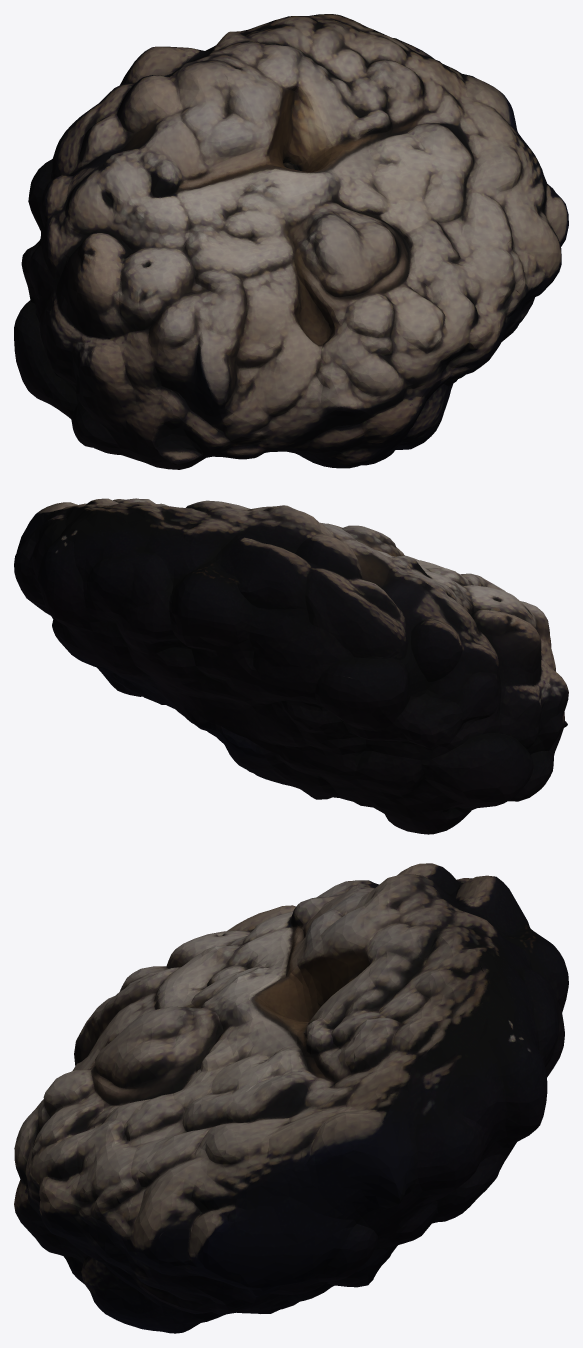
The model's file is Asteroid 3.glb.
3 renders of one model, top to bottom at view 1: azimuth 30°, elevation 25°; view 2: azimuth 150°, elevation 25°; view 3: azimuth 270°, elevation 25°, orthographic. The views are drawn at different scales.
Visible parts, largest first — view 1: world; view 2: world; view 3: world.
Boxes of the visible parts, x1,y1,x2,y2 form: world: (14, 14, 568, 469); world: (14, 498, 568, 834); world: (14, 863, 568, 1333).
Bounding box in the file's own units: 0.9989 × 0.6335 × 0.8055.
Materials: 1 (1 with a texture image).
